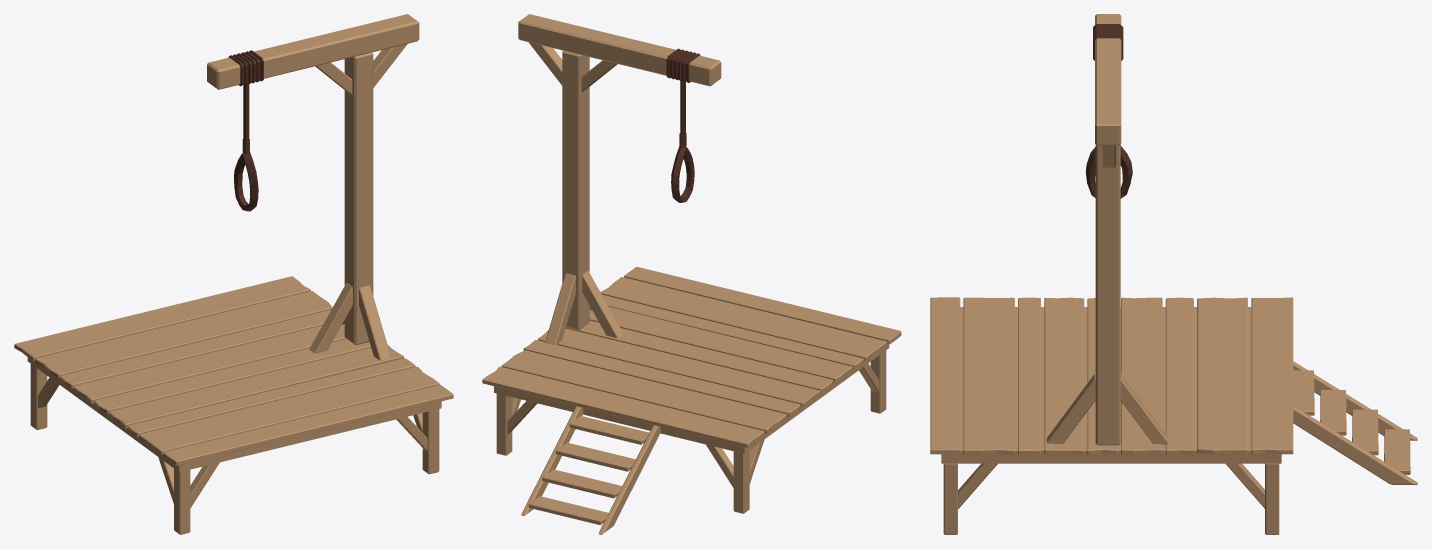
The model's file is gallows.glb.
The picture shows the model from 3 angles, left to right: view 1: azimuth 30°, elevation 25°; view 2: azimuth 150°, elevation 25°; view 3: azimuth 270°, elevation 25°; orthographic projection. The views are drawn at different scales.
Visible parts, largest first — view 1: Gallows (×2); view 2: Gallows (×2); view 3: Gallows (×2).
Part boxes in pixels (x1,y1,x2,y2): Gallows (×2): (14, 14, 453, 534); Gallows (×2): (482, 14, 901, 534); Gallows (×2): (930, 14, 1417, 534).
Bounding box in the file's own units: 3.49 × 4.11 × 4.13.
